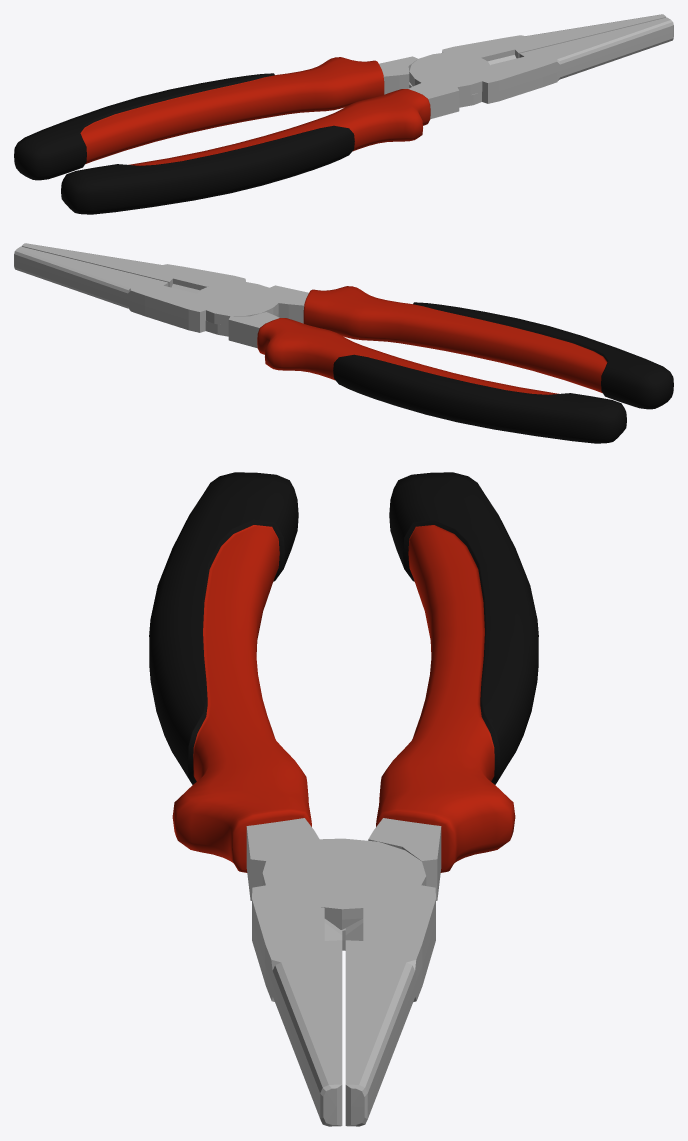
The model's file is TangCucut.fbx.
The picture shows the model from 3 angles, top to bottom: view 1: azimuth 30°, elevation 25°; view 2: azimuth 150°, elevation 25°; view 3: azimuth 270°, elevation 25°; orthographic projection. The views are drawn at different scales.
Visible parts, largest first — view 1: TangCucutKiri.002; view 2: TangCucutKiri.002; view 3: TangCucutKiri.002.
Boxes of the visible parts, box(x1,y1,x2,y2) form: TangCucutKiri.002: box(14, 14, 673, 214); TangCucutKiri.002: box(14, 243, 673, 443); TangCucutKiri.002: box(149, 472, 538, 1126).
Bounding box in the file's own units: 24.11 × 1.29 × 6.49.
